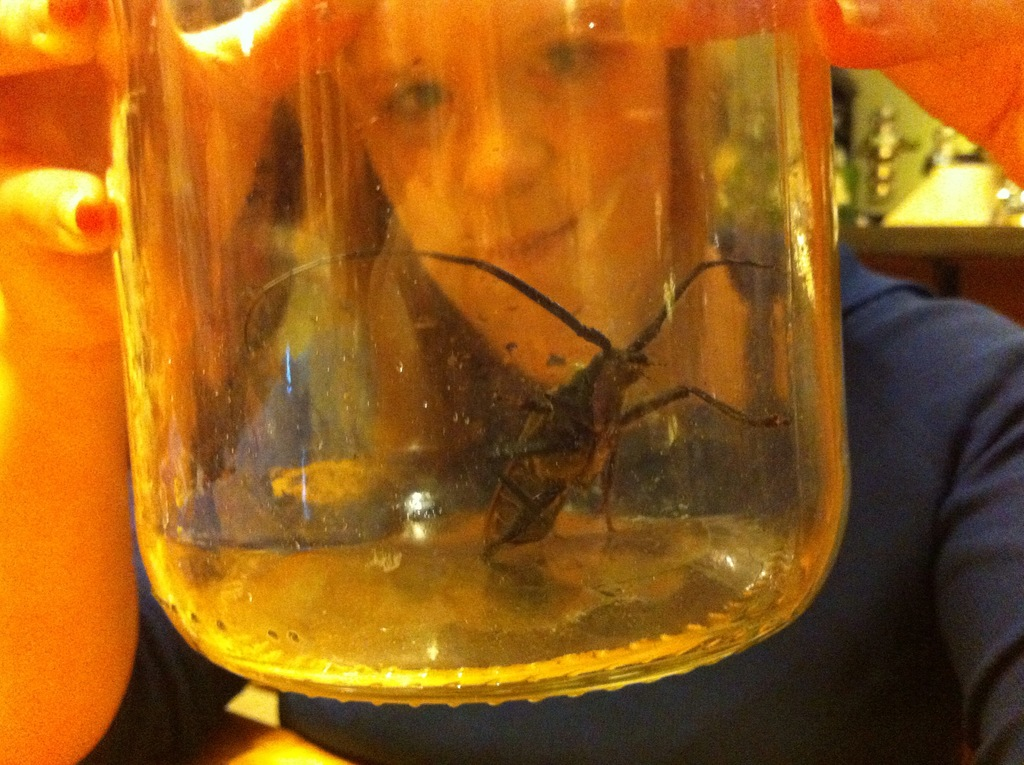face: (337, 0, 679, 352)
